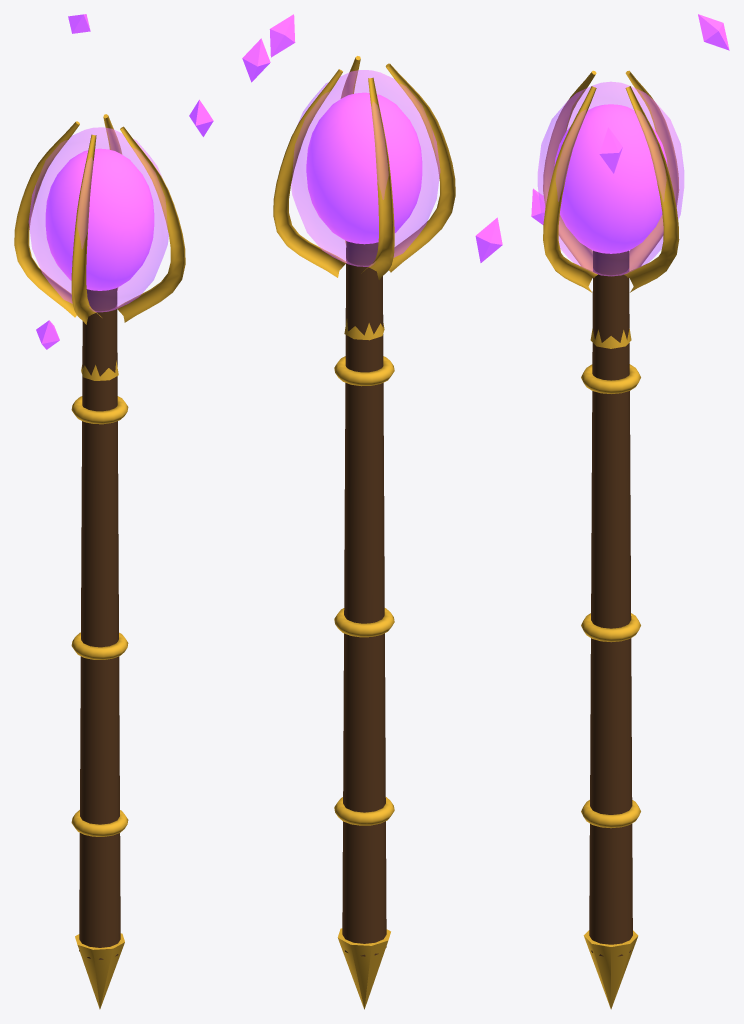
The model's file is staff_magic.glb.
3 renders of one model, left to right at view 1: azimuth 30°, elevation 25°; view 2: azimuth 150°, elevation 25°; view 3: azimuth 270°, elevation 25°, orthographic. The views are drawn at different scales.
Parts seen in each view (by area): view 1: Shaft, CrystalGlow, Crystal, Prong0, Prong2, Prong3, Ferrule, Ring2, Ring1, Ring0, Shard0; view 2: Shaft, CrystalGlow, Crystal, Prong1, Prong3, Prong2, Ferrule, Ring2, Ring1, Ring0, Shard2, Shard1 (+1 smaller); view 3: Shaft, CrystalGlow, Crystal, Prong1, Prong0, Prong2, Prong3, Ferrule, Ring2, Ring1, Ring0, Shard2 (+1 smaller).
Part boxes in pixels (x1,y1,x2,y2): Shaft: [79, 288, 120, 959]; CrystalGlow: [28, 127, 168, 312]; Crystal: [45, 148, 154, 290]; Prong0: [116, 126, 185, 322]; Prong2: [14, 121, 79, 317]; Prong3: [71, 134, 101, 324]; Ferrule: [75, 933, 124, 1009]; Ring2: [71, 396, 128, 424]; Ring1: [71, 632, 128, 659]; Ring0: [71, 810, 128, 836]; Shard0: [189, 99, 213, 136]; Shaft: [342, 241, 386, 956]; CrystalGlow: [291, 70, 440, 266]; Crystal: [306, 92, 422, 244]; Prong1: [273, 69, 346, 277]; Prong3: [385, 63, 455, 272]; Prong2: [361, 77, 394, 279]; Ferrule: [337, 928, 390, 1009]; Ring2: [334, 356, 394, 386]; Ring1: [334, 608, 394, 637]; Ring0: [334, 797, 394, 825]; Shard2: [269, 14, 295, 57]; Shard1: [475, 217, 502, 262]; Shaft: [589, 250, 632, 956]; CrystalGlow: [537, 81, 684, 276]; Crystal: [554, 104, 667, 253]; Prong1: [624, 86, 679, 292]; Prong0: [543, 86, 597, 292]; Prong2: [625, 70, 678, 271]; Prong3: [543, 70, 596, 271]; Ferrule: [583, 930, 638, 1009]; Ring2: [581, 364, 640, 393]; Ring1: [581, 613, 640, 642]; Ring0: [581, 800, 640, 828]; Shard2: [698, 14, 729, 50].
Bounding box in the file's own units: 0.364 × 1.63 × 0.2898.
